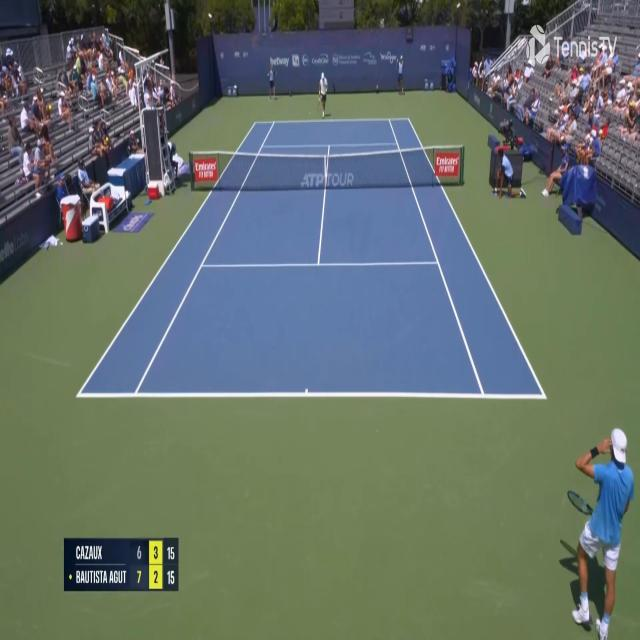tennis-player: (557, 424, 636, 636), (316, 71, 330, 118)
